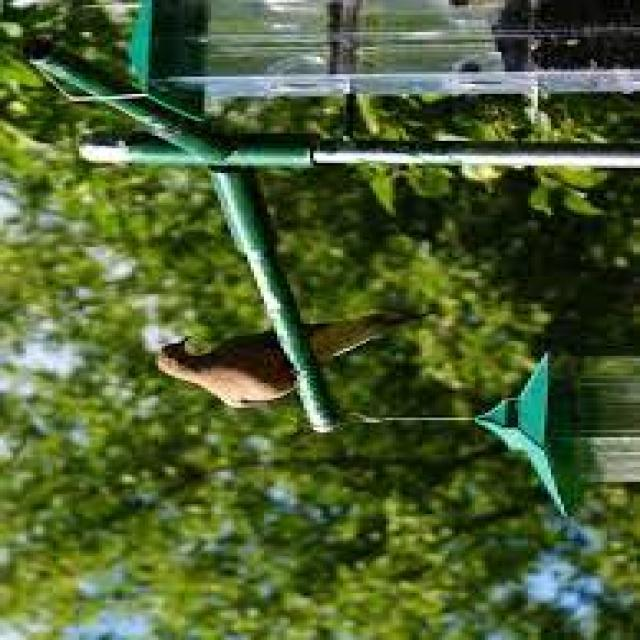pigeon: (147, 310, 377, 427)
